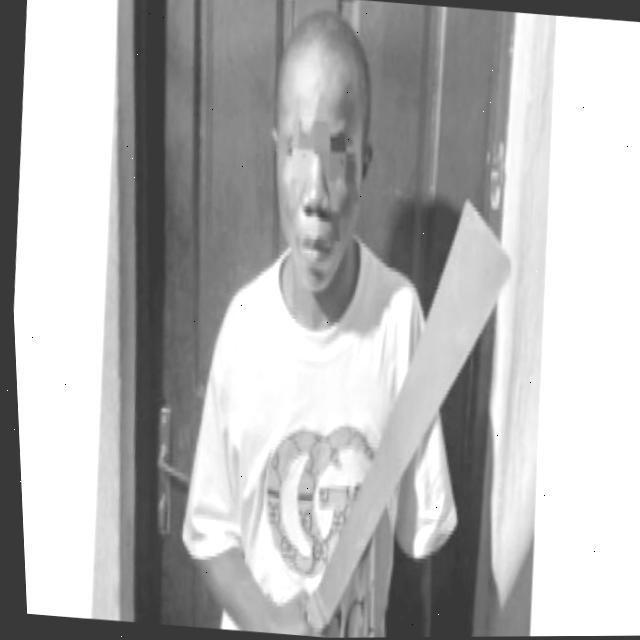long knife: (280, 180, 560, 638)
